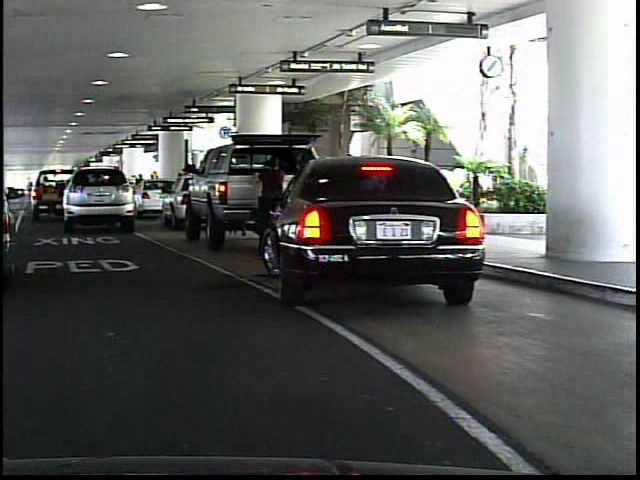person: (248, 150, 298, 254)
